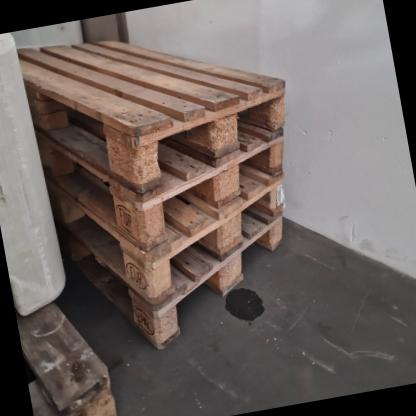BoxFace: (18, 35, 291, 195), (60, 215, 288, 353), (37, 128, 290, 252), (50, 176, 290, 306)
